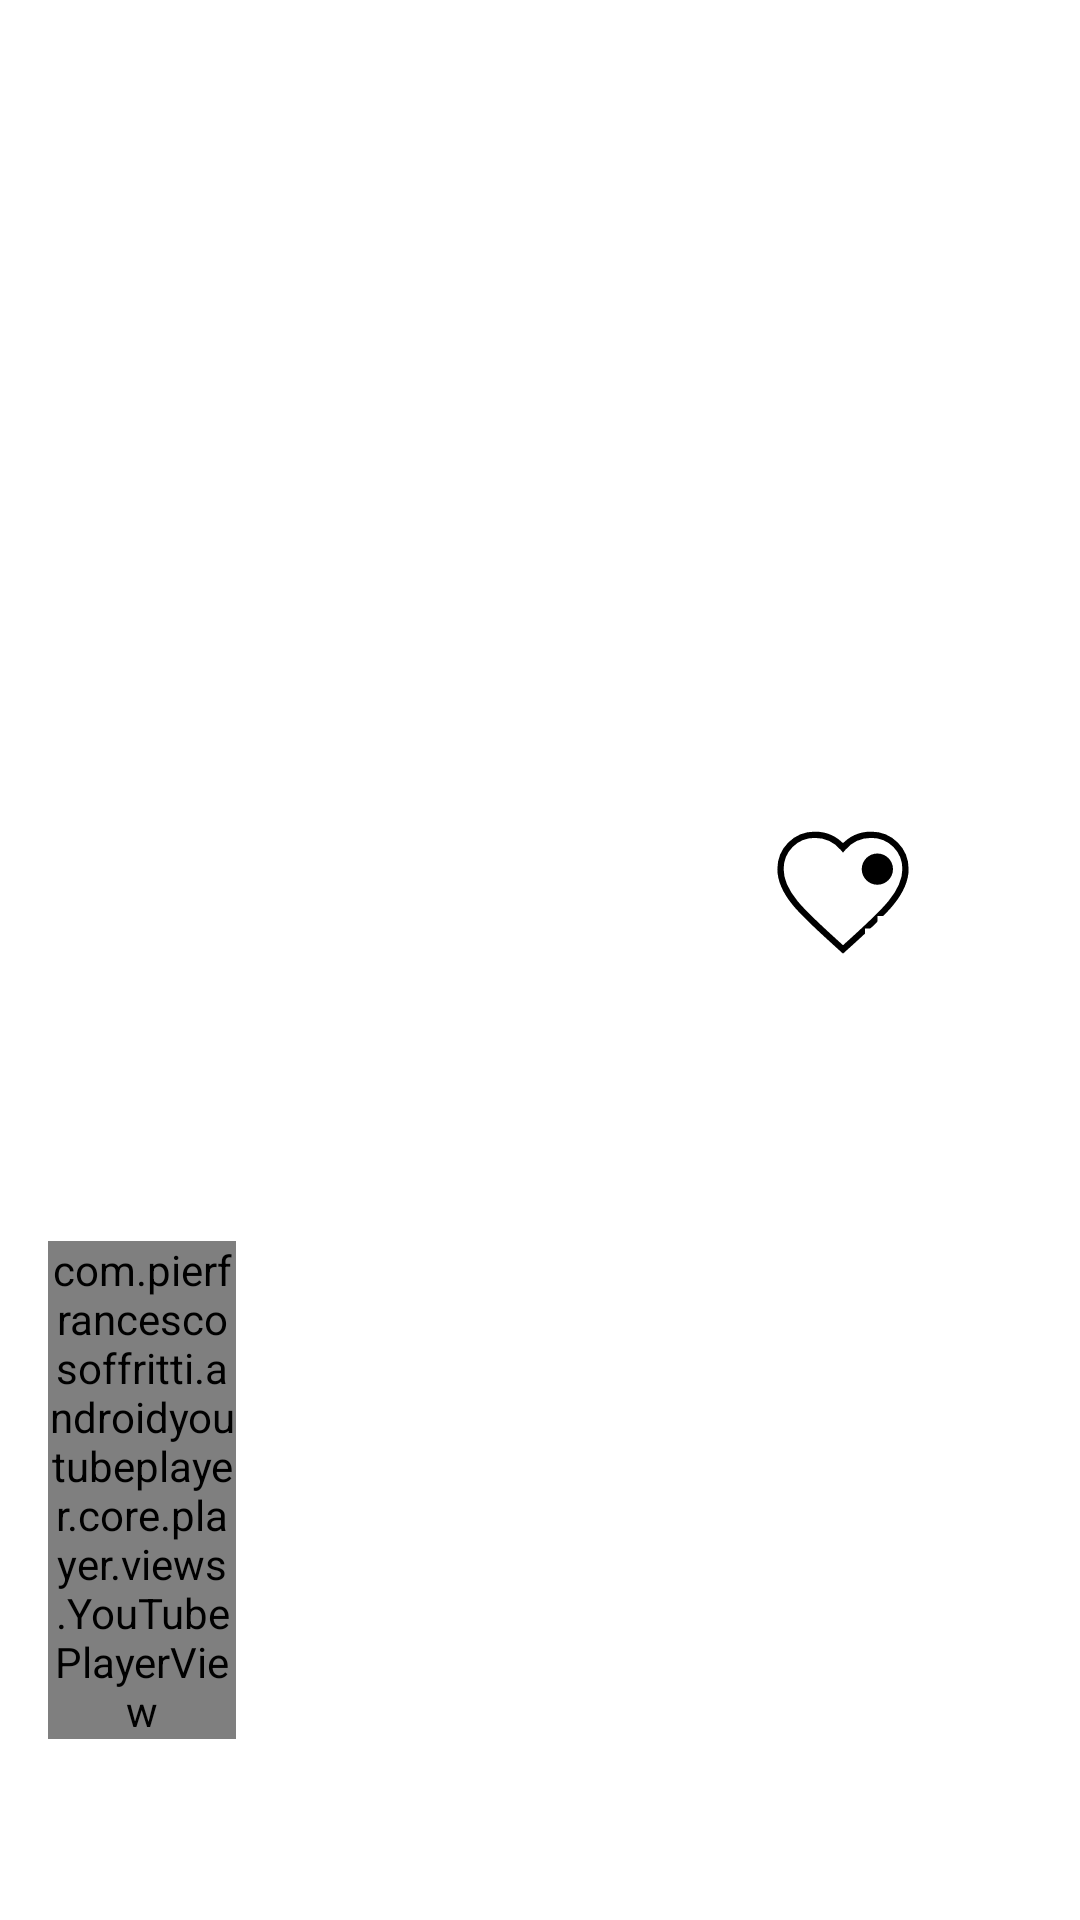

Screen size 1080 × 1920. Icon name, then its center in pixels as point (x, y):
Add Favourite: point (843, 892)
